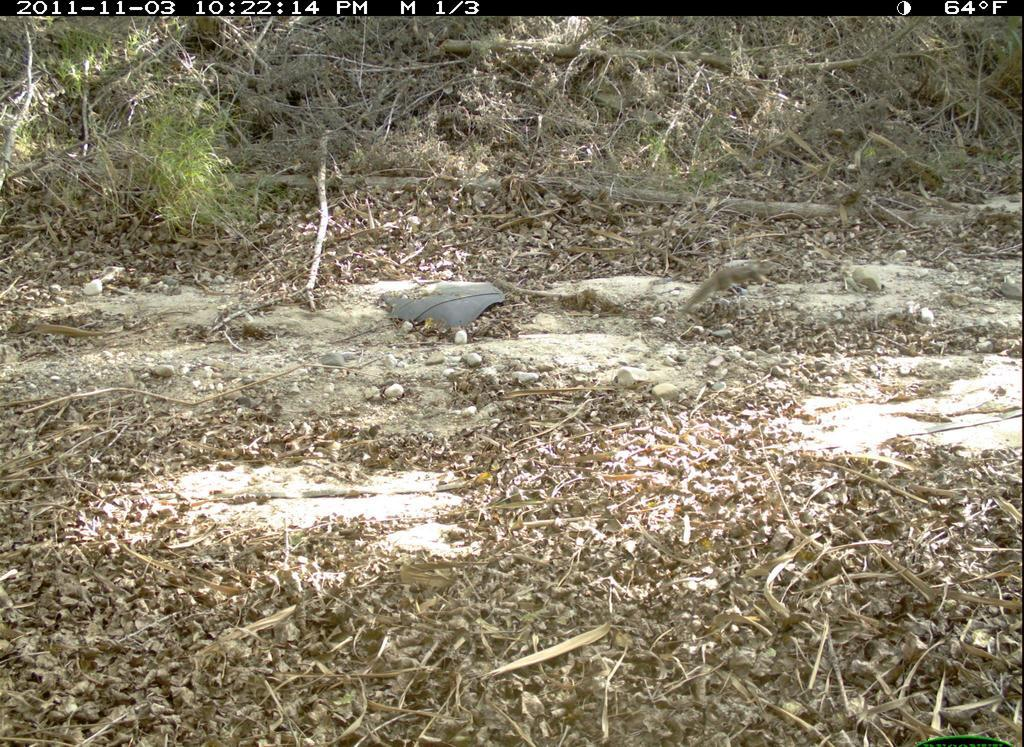squirrel: (655, 253, 803, 319)
